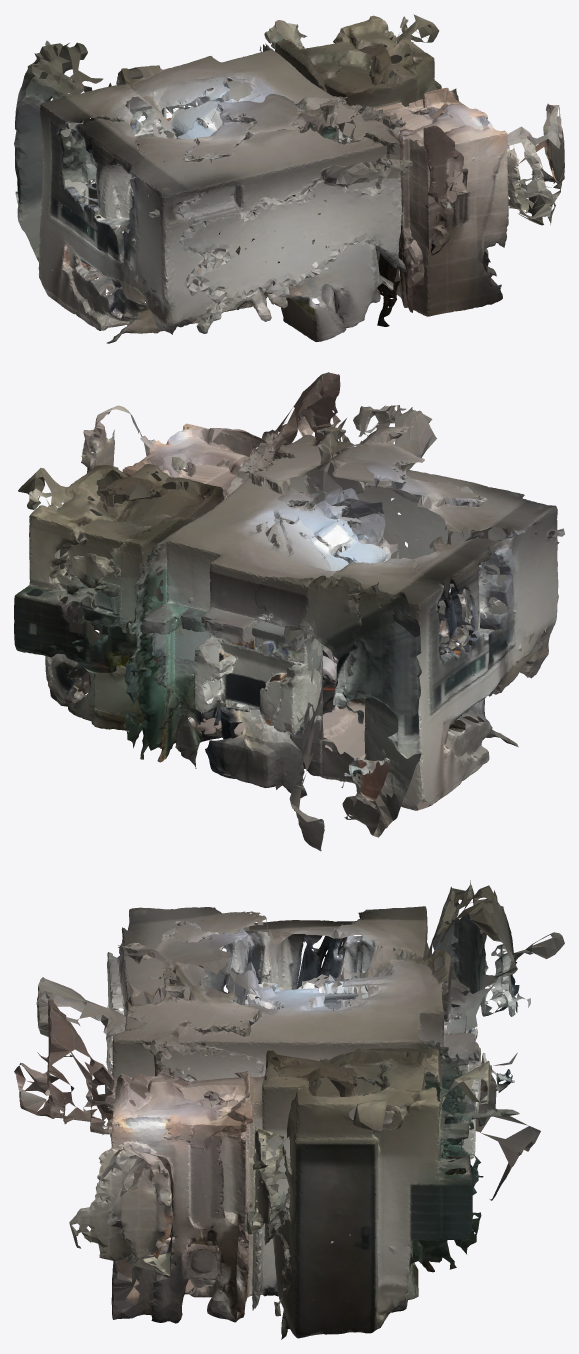
Rendered from room_scan.glb.
3 views of the same model, one above another, from view 1: azimuth 30°, elevation 25°; view 2: azimuth 150°, elevation 25°; view 3: azimuth 270°, elevation 25° (orthographic). The views are drawn at different scales.
Parts seen in each view (by area): view 1: out.obj; view 2: out.obj; view 3: out.obj.
Part boxes in pixels (x1,y1,x2,y2): out.obj: [14, 14, 564, 343]; out.obj: [14, 372, 564, 851]; out.obj: [14, 880, 564, 1339].
Bounding box in the file's own units: 19.82 × 11.18 × 18.48.
Materials: 1 (1 with a texture image).
